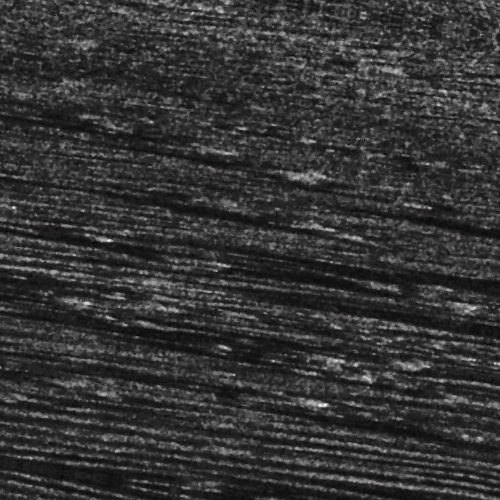object: (17, 316, 174, 337), (339, 262, 500, 279), (379, 327, 484, 340), (298, 335, 381, 350), (313, 210, 376, 225), (152, 147, 235, 158), (0, 426, 93, 435), (385, 492, 478, 500), (457, 478, 500, 495), (308, 383, 371, 394), (346, 254, 409, 265), (434, 359, 500, 368), (141, 313, 224, 320), (135, 262, 218, 269), (238, 161, 301, 166), (362, 173, 425, 178), (400, 252, 453, 257), (303, 357, 344, 360)
shadow: (293, 383, 500, 422), (116, 478, 500, 495), (122, 262, 454, 279), (38, 327, 432, 340), (8, 210, 344, 225), (3, 335, 339, 350), (267, 231, 500, 250), (0, 254, 377, 265), (8, 383, 339, 394), (54, 492, 431, 500), (0, 147, 193, 158), (0, 316, 95, 337), (29, 252, 426, 257), (289, 359, 480, 368), (0, 262, 177, 269), (289, 186, 500, 191), (63, 161, 270, 166), (193, 173, 393, 178), (431, 76, 500, 83), (113, 313, 182, 320), (0, 426, 47, 435), (459, 179, 500, 188), (427, 286, 500, 291), (256, 357, 323, 360), (485, 328, 500, 339), (461, 161, 500, 164)
